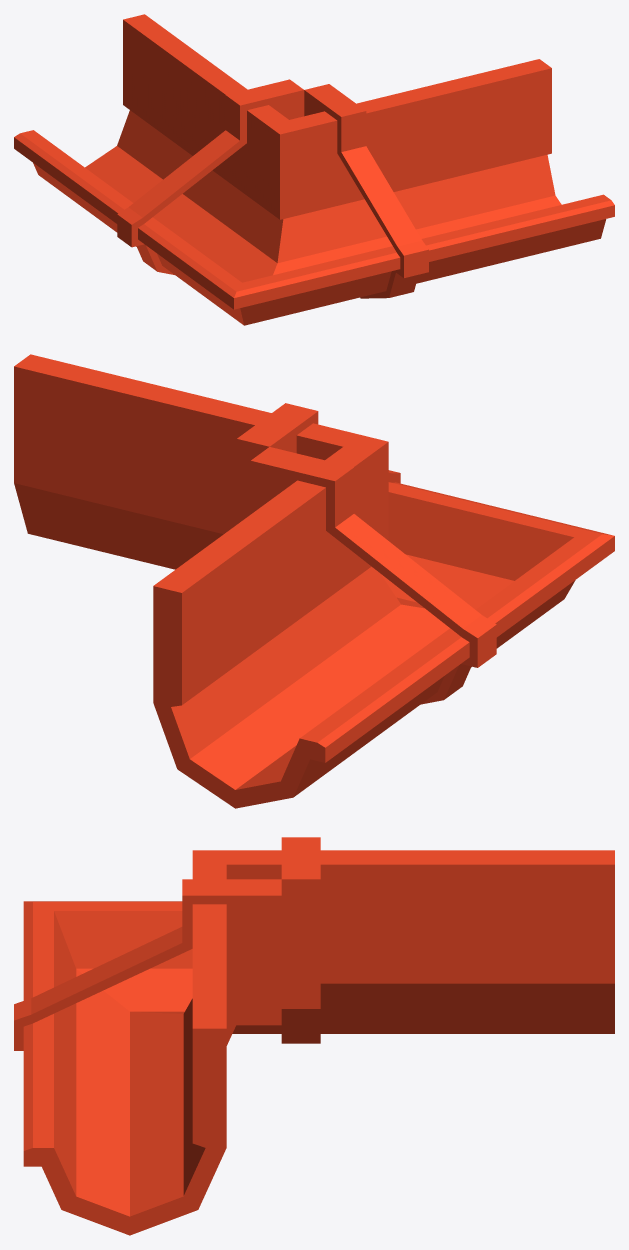
Rendered from SM_Gutter_Moderate_Corner.fbx.
The picture shows the model from 3 angles, top to bottom: view 1: azimuth 30°, elevation 25°; view 2: azimuth 150°, elevation 25°; view 3: azimuth 270°, elevation 25°; orthographic projection. The views are drawn at different scales.
Visible parts, largest first — view 1: gutter-moderate-corner; view 2: gutter-moderate-corner; view 3: gutter-moderate-corner.
Part boxes in pixels (x1,y1,x2,y2): gutter-moderate-corner: [14, 14, 614, 325]; gutter-moderate-corner: [14, 354, 614, 808]; gutter-moderate-corner: [14, 837, 614, 1235].
Size of the model in its own units: 0.6208 by 0.2563 by 0.6208.
